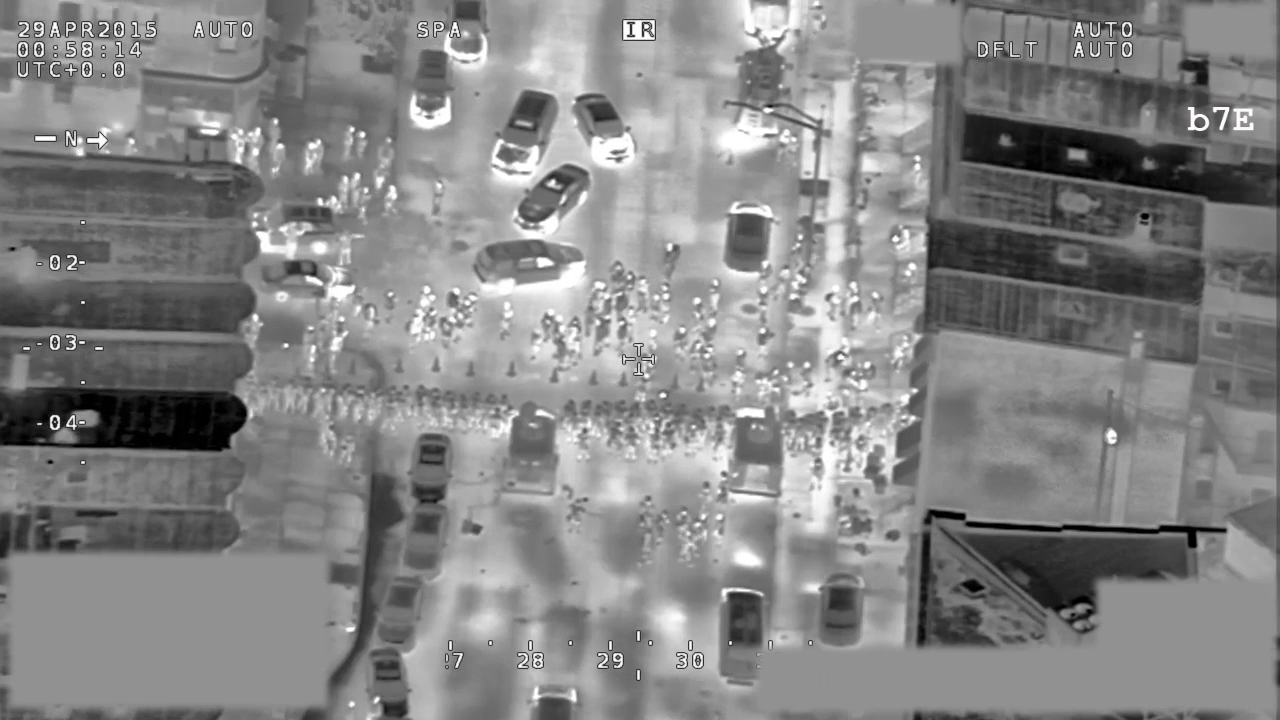vehicle: (729, 31, 793, 143), (465, 237, 590, 294), (488, 87, 559, 183), (722, 399, 790, 498), (713, 581, 770, 692), (510, 161, 594, 235), (502, 401, 563, 497), (568, 92, 638, 170), (254, 258, 360, 307), (722, 198, 782, 275), (815, 567, 870, 648), (246, 203, 343, 247), (408, 46, 459, 129), (364, 642, 417, 720), (404, 498, 448, 578), (405, 430, 454, 500), (378, 572, 426, 643)
